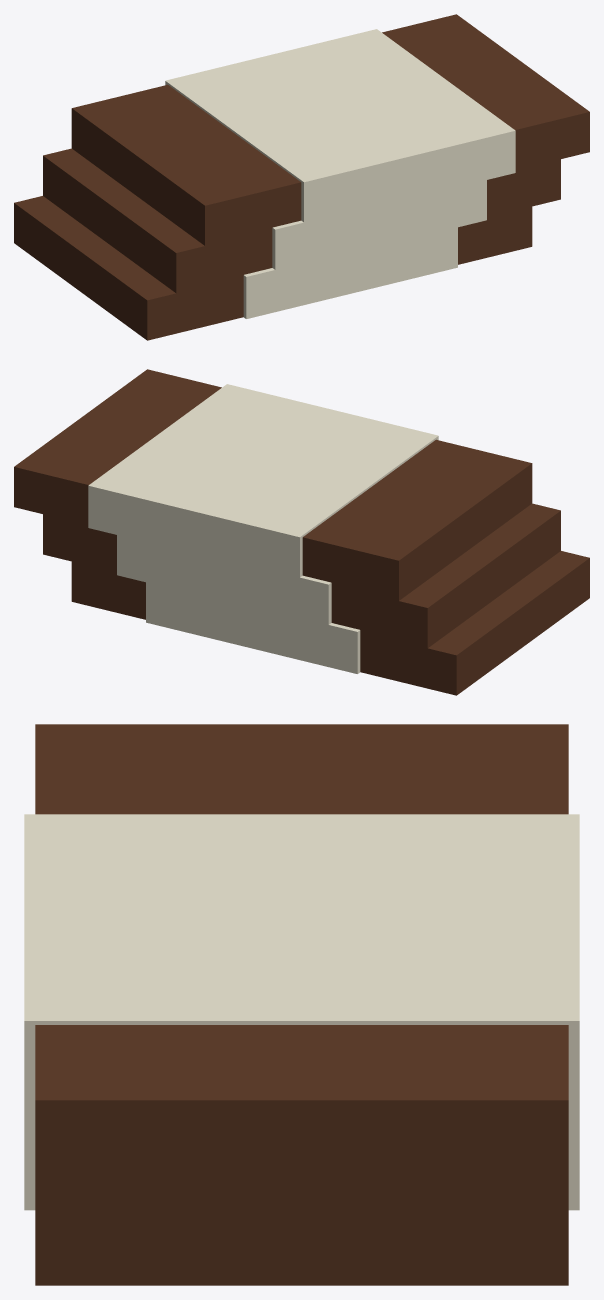
The model's file is food_chocolate.obj.
The picture shows the model from 3 angles, top to bottom: view 1: azimuth 30°, elevation 25°; view 2: azimuth 150°, elevation 25°; view 3: azimuth 270°, elevation 25°; orthographic projection. The views are drawn at different scales.
Visible parts, largest first — view 1: food_chocolate; view 2: food_chocolate; view 3: food_chocolate.
Boxes of the visible parts, x1,y1,x2,y2 form: food_chocolate: [14, 14, 589, 340]; food_chocolate: [14, 369, 589, 695]; food_chocolate: [24, 724, 579, 1285].
Size of the model in its own units: 0.46 by 0.122 by 0.25.
